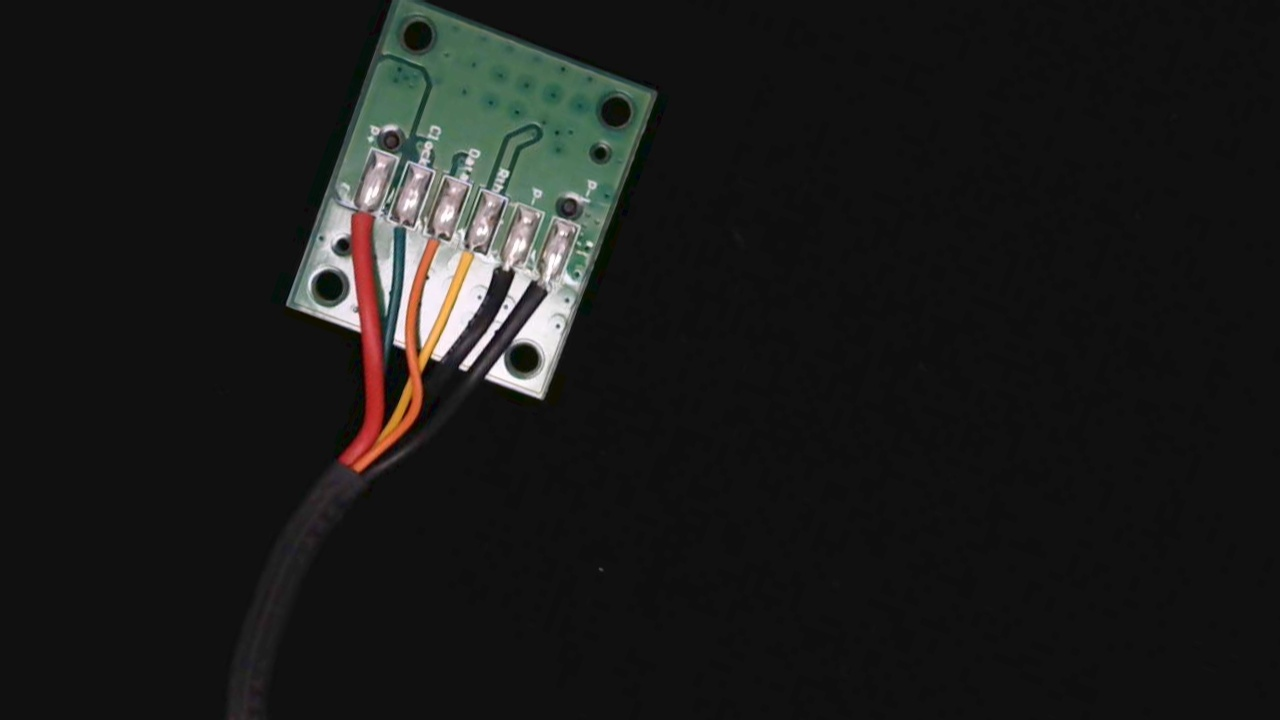Black: (481, 245, 525, 307)
Black1: (516, 259, 563, 321)
Green: (373, 202, 420, 261)
Orange: (408, 217, 456, 277)
Red: (339, 188, 381, 247)
Yellow: (442, 232, 491, 296)
